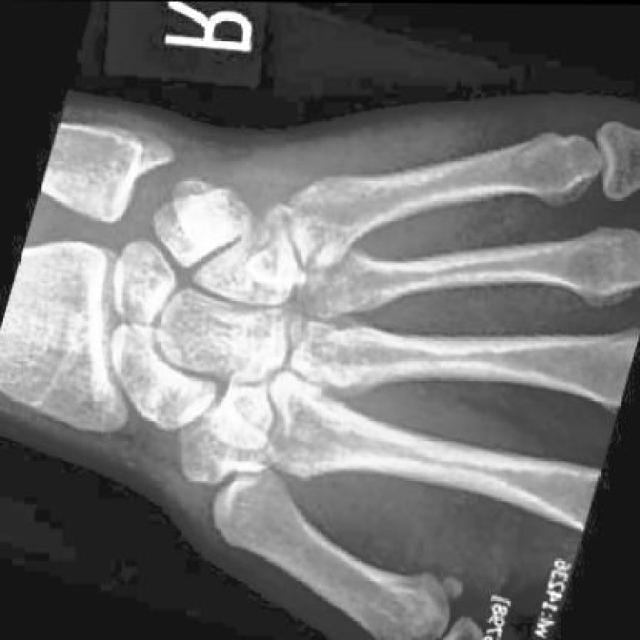Fracture: (226, 200, 320, 293)
